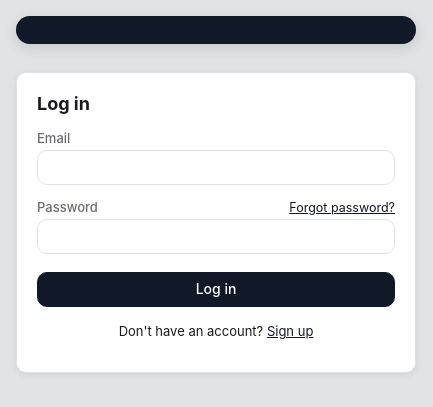
Test case: CustomerLoginPage › shows a generic network-error message and never attempts the customer login on an unexpected failure
Type "someone@example.com" into the field labelled "Email". click: (216, 168)
box: [37,150,395,185]
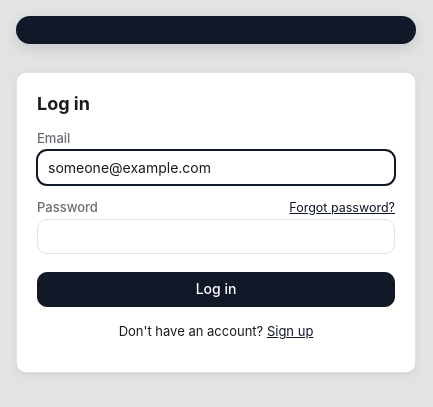
Type "whatever-password" into the password field labelled "Password". click: (216, 236)
box: [37,219,395,254]
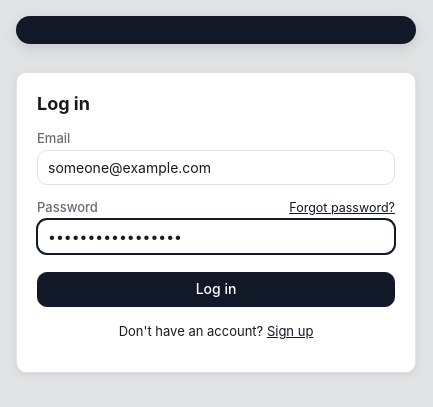
Click the button "Log in". click: (216, 289)
box: [37,272,395,307]
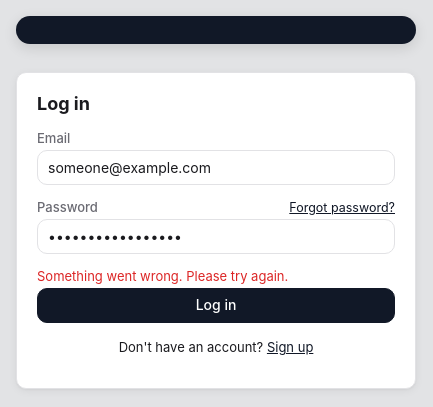
Check: the text "Something went wrong. Please try again." is shown, box [37,268,288,284]
